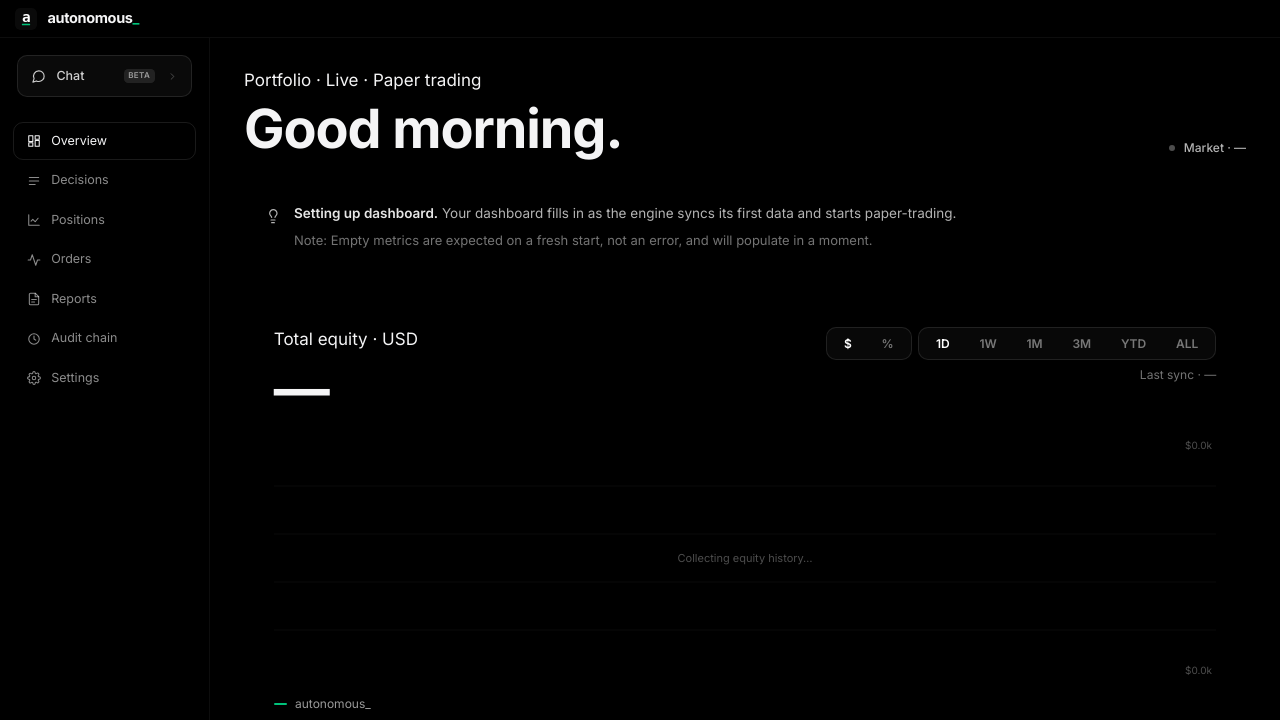
Scenario: console shell › sidebar nav switches to the live Settings page
This screenshot has width=1280, height=720.
Click the button "Settings" at coordinates (105, 378), box [13, 359, 196, 397]
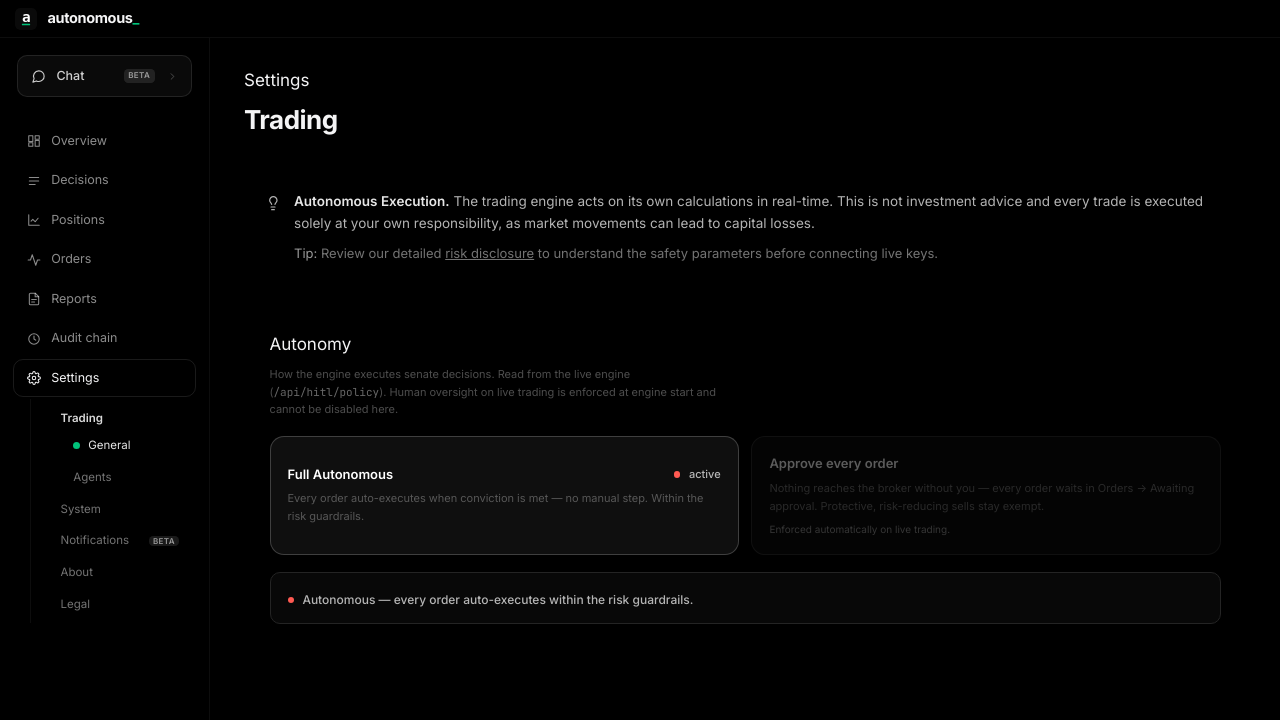
Now the heading "Trading" is shown, box [244, 104, 338, 136]
